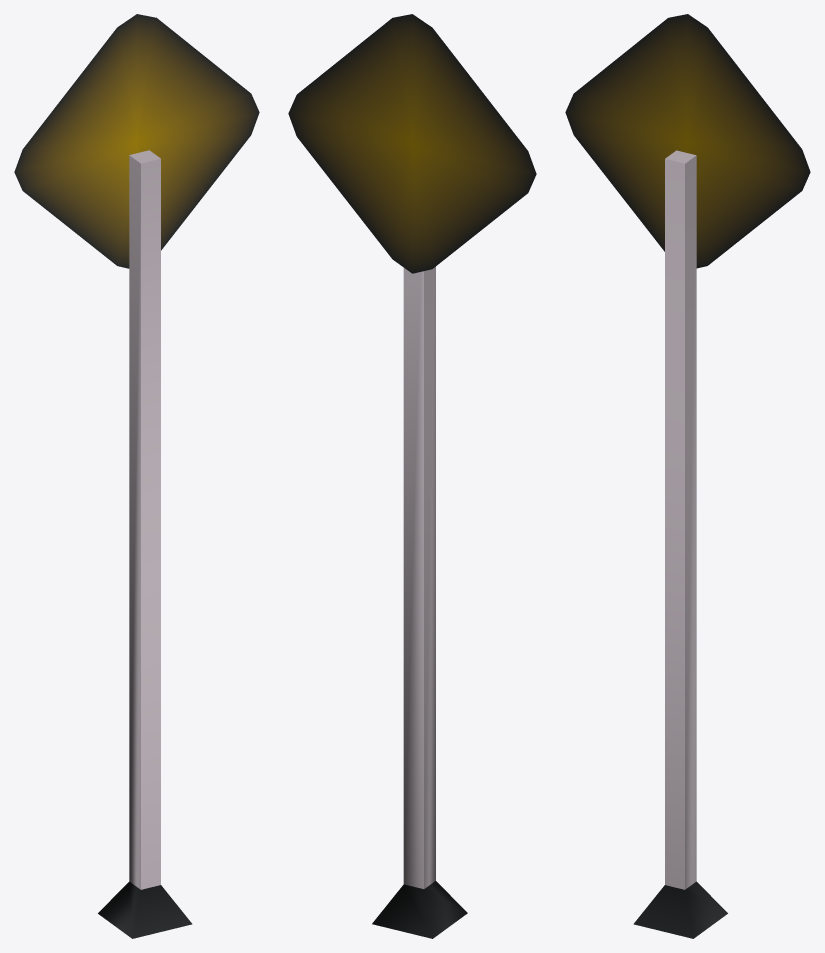
The model's file is SM_ER_RoadSignB.fbx.
3 views of the same model, side by side, from view 1: azimuth 30°, elevation 25°; view 2: azimuth 150°, elevation 25°; view 3: azimuth 330°, elevation 25° (orthographic).
Parts seen in each view (by area): view 1: SM_ER_RoadSignB; view 2: SM_ER_RoadSignB; view 3: SM_ER_RoadSignB.
Part boxes in pixels (bbox=[...]): SM_ER_RoadSignB: bbox=[14, 14, 259, 938]; SM_ER_RoadSignB: bbox=[288, 14, 536, 938]; SM_ER_RoadSignB: bbox=[565, 14, 810, 938].
Bounding box in the file's own units: 168 × 589 × 41.26.
